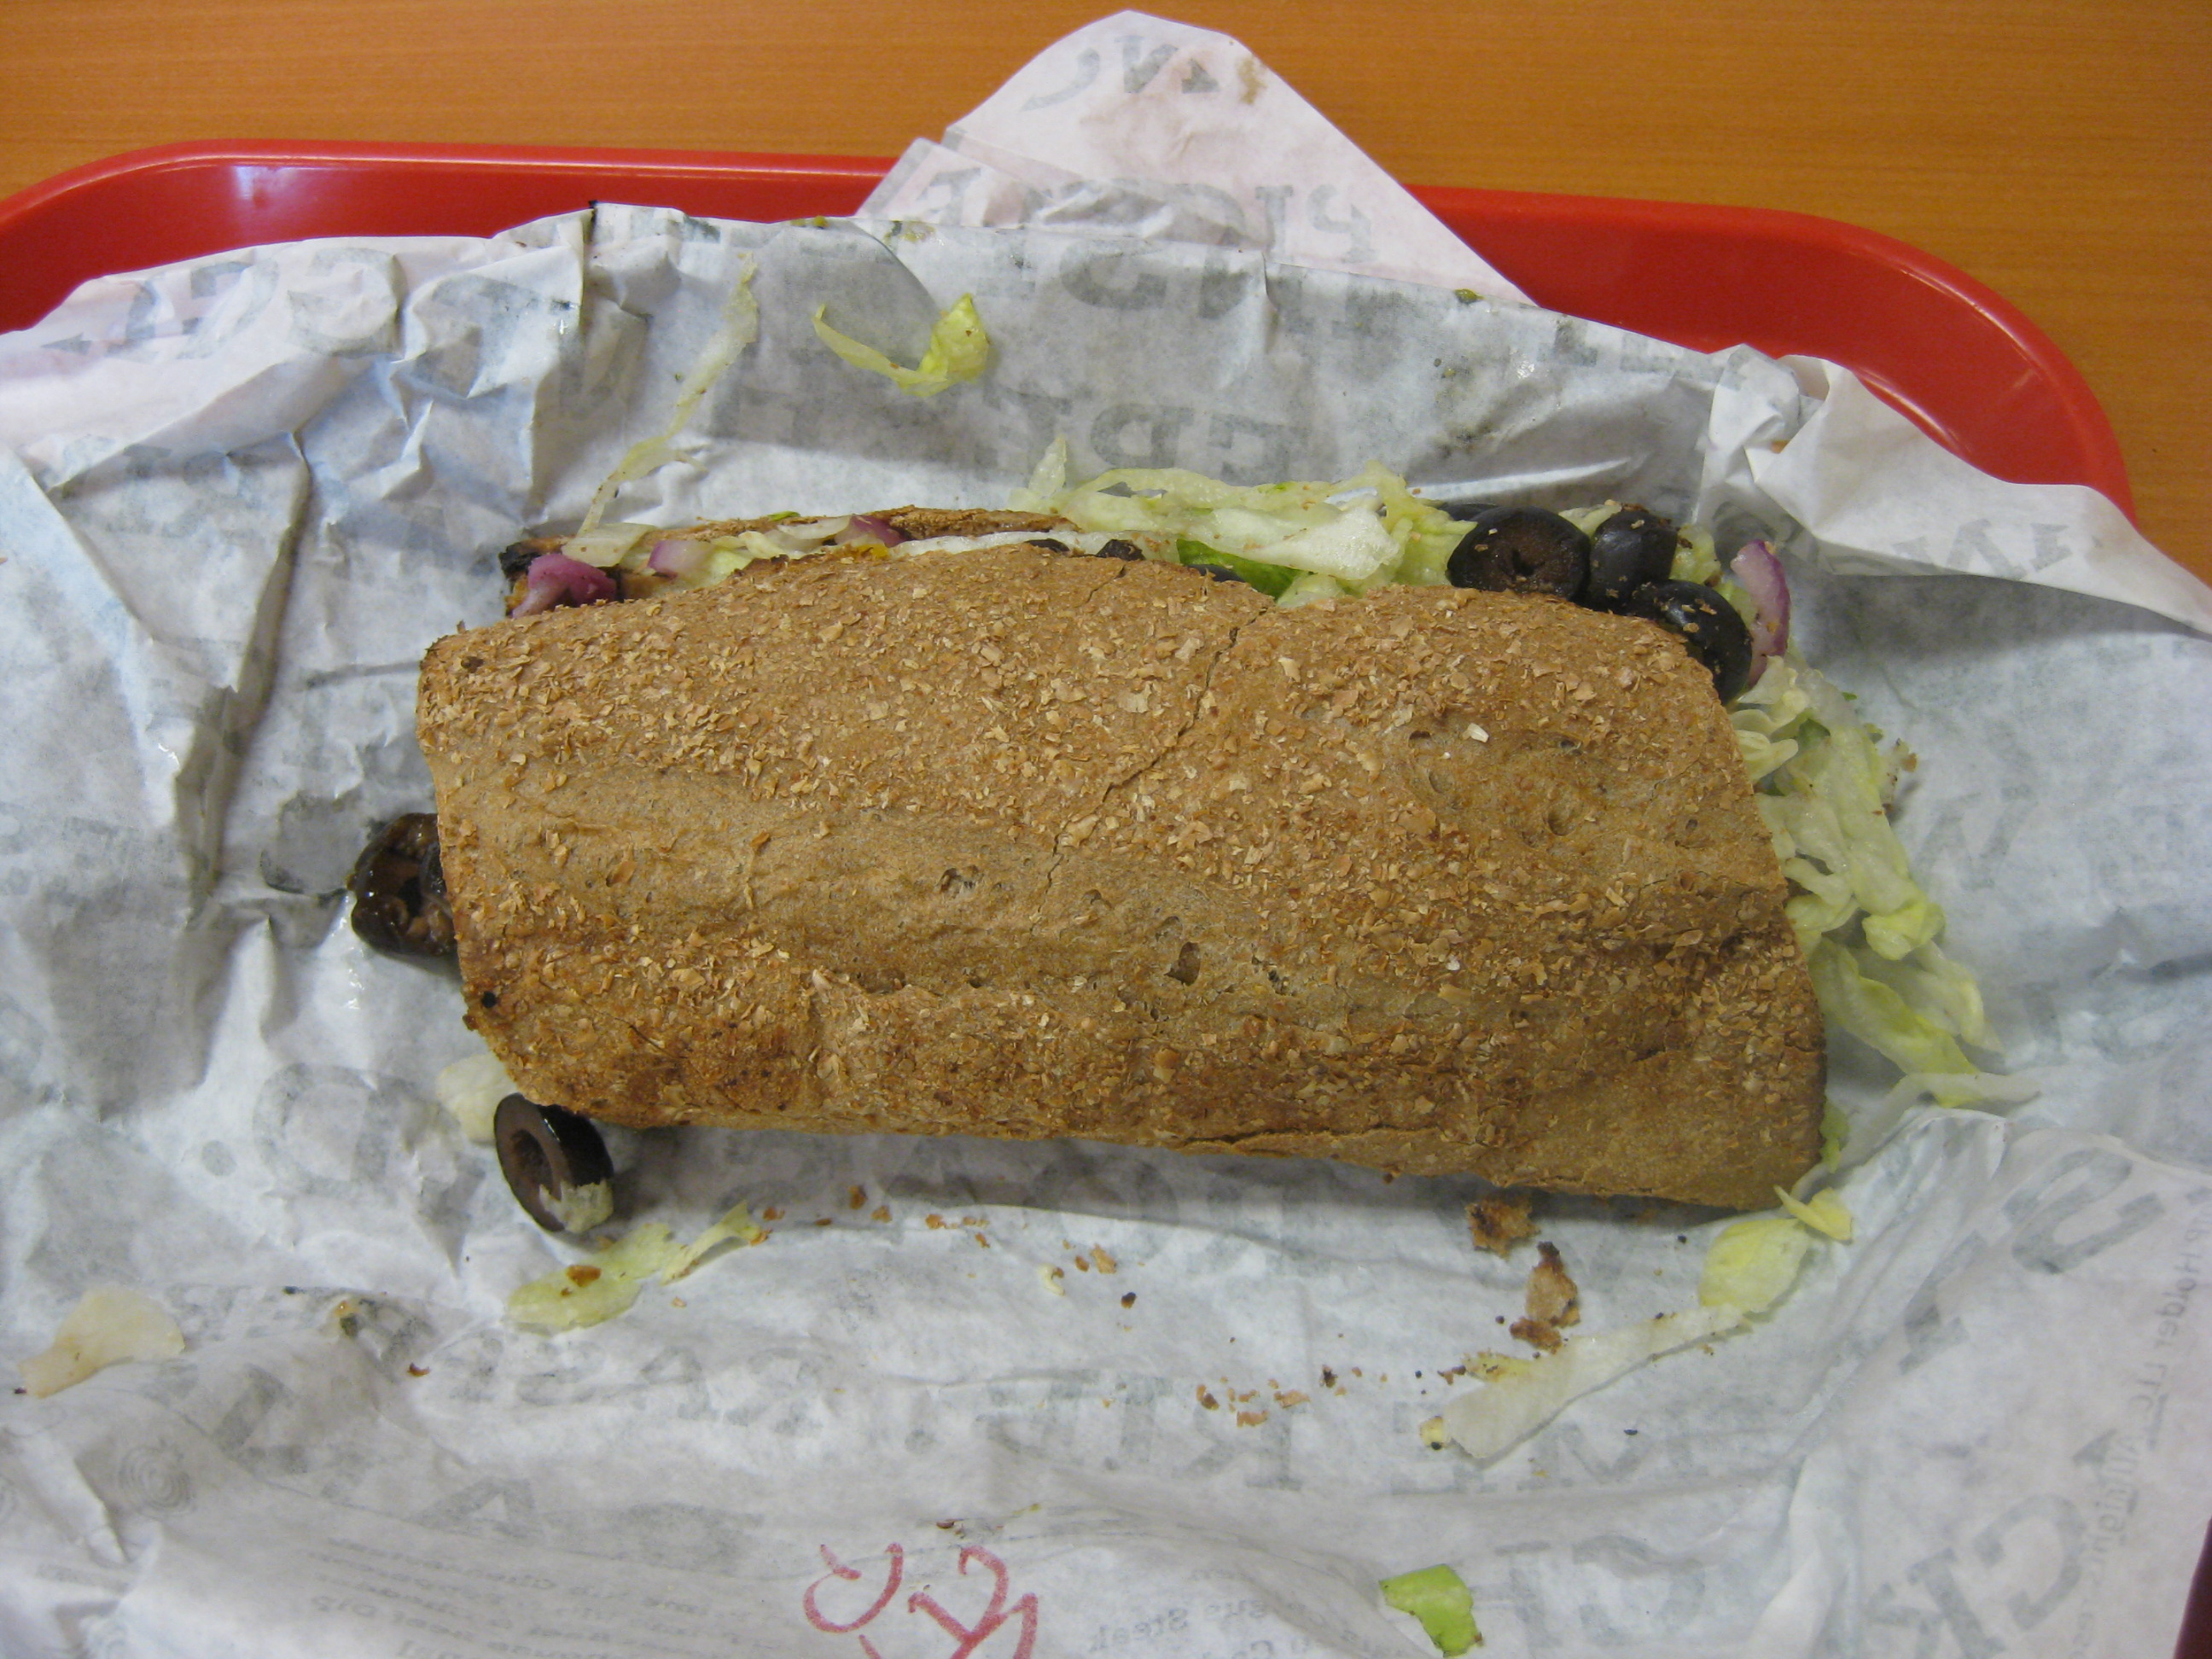sub: (375, 517, 1980, 1272)
